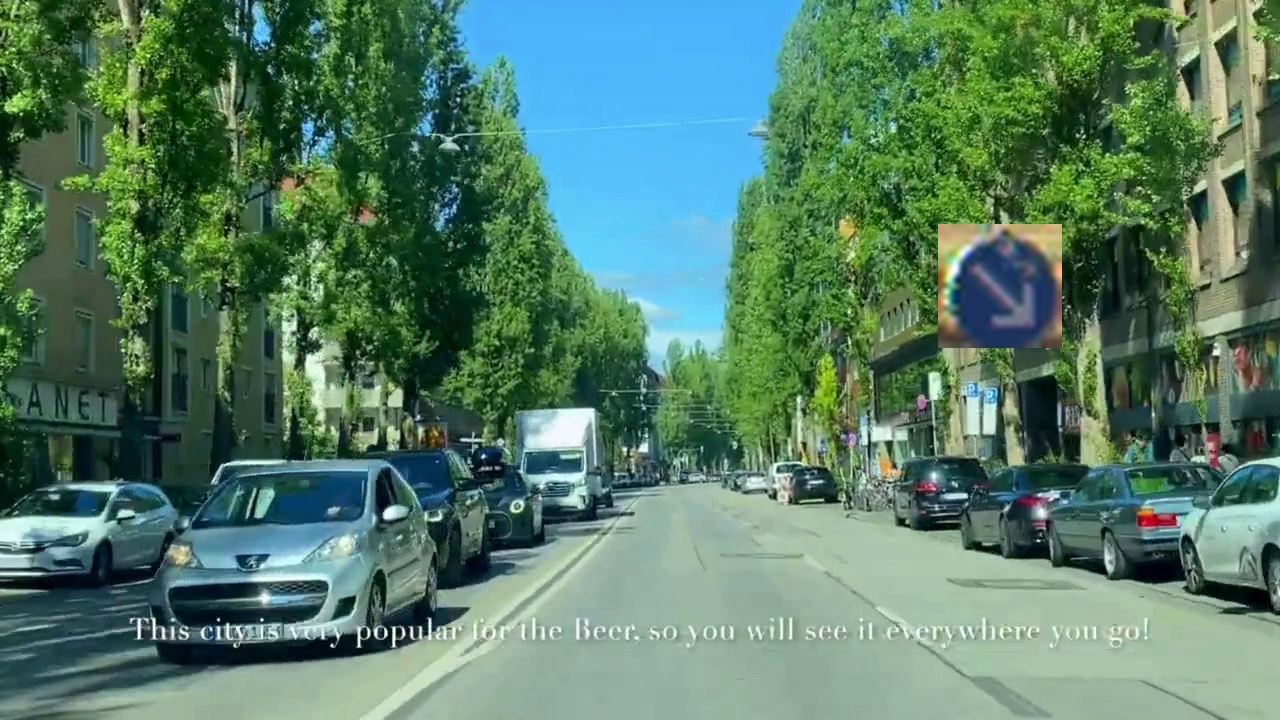Keep right: (938, 224, 1062, 348)
